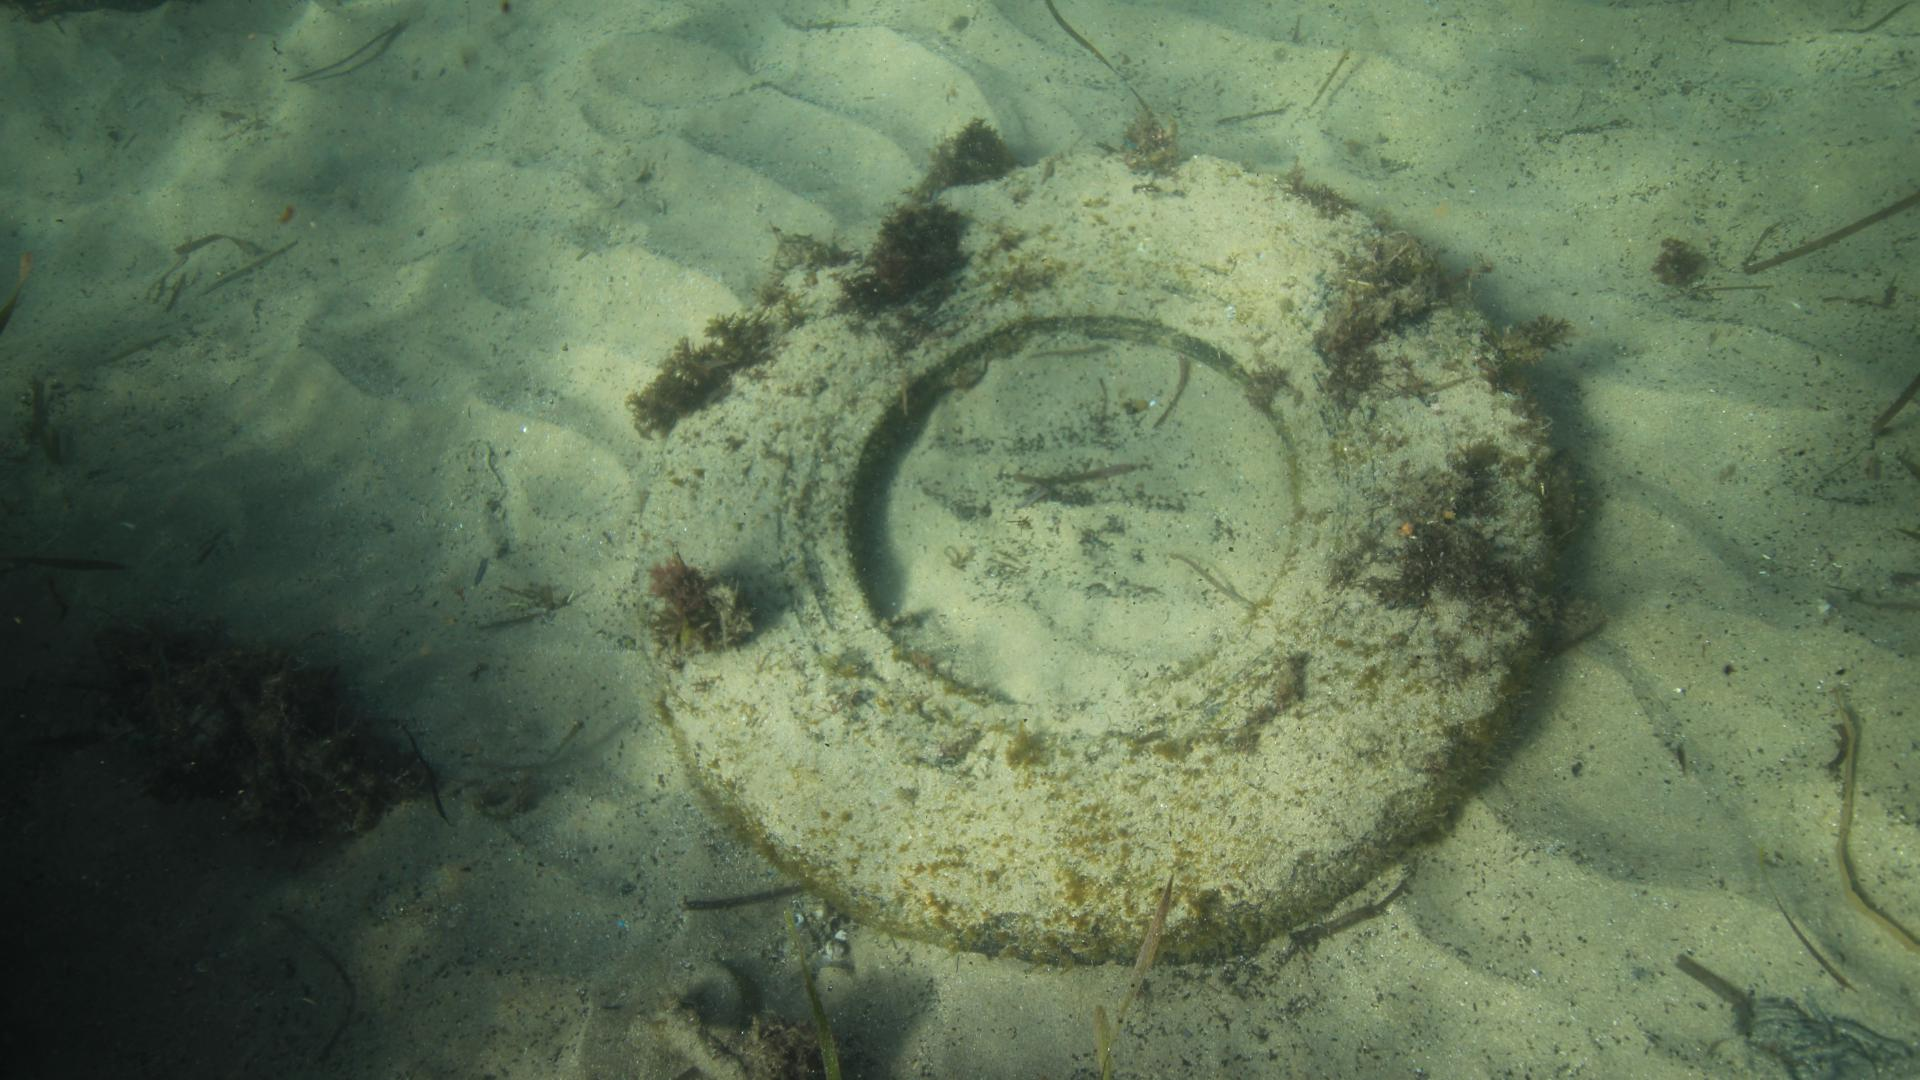tire: (636, 153, 1553, 965)
